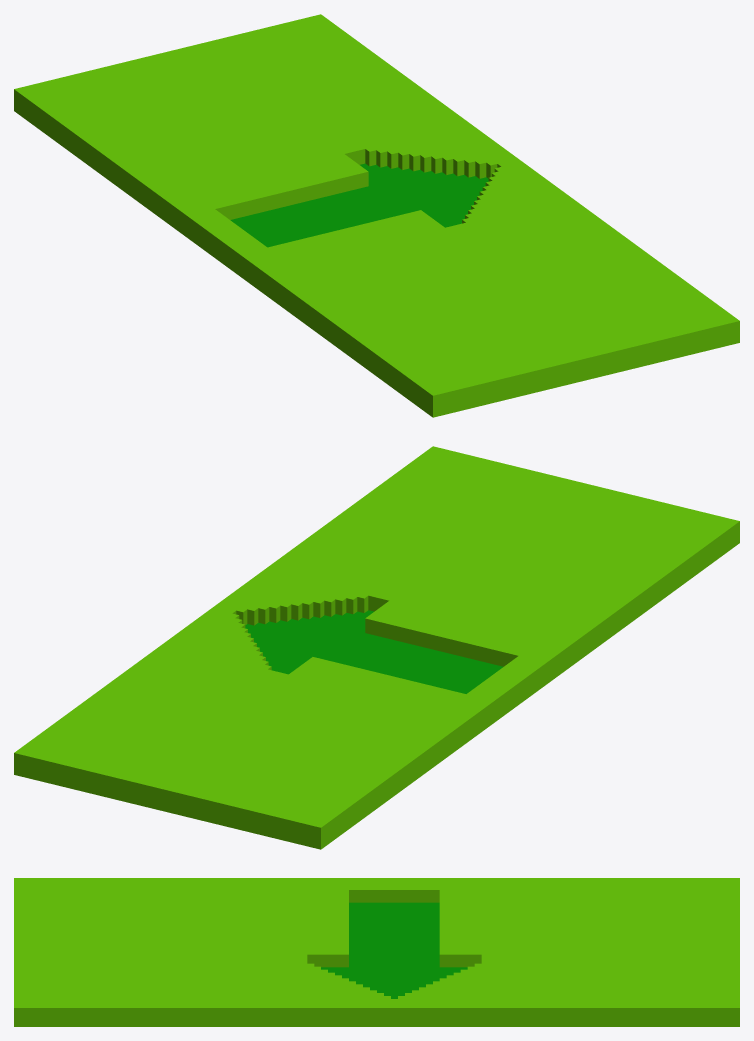
Rendered from cabin-5.obj.
3 views of the same model, one above another, from view 1: azimuth 30°, elevation 25°; view 2: azimuth 150°, elevation 25°; view 3: azimuth 270°, elevation 25° (orthographic). The views are drawn at different scales.
Size of the model in its own units: 4.4 by 0.3 by 10.4.
1 material, 1 textured.
